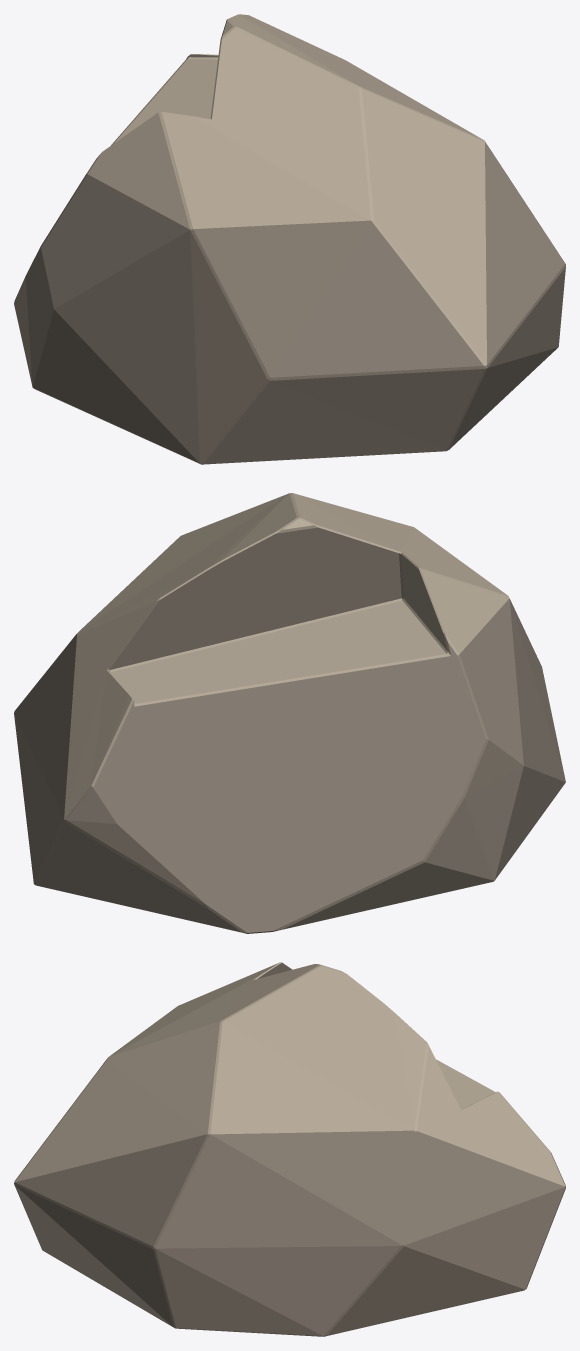
3 views of the same model, one above another, from view 1: azimuth 30°, elevation 25°; view 2: azimuth 150°, elevation 25°; view 3: azimuth 270°, elevation 25° (orthographic). The views are drawn at different scales.
Visible parts, largest first — view 1: rock; view 2: rock; view 3: rock.
Part boxes in pixels (x1,y1,x2,y2): rock: (14, 14, 565, 464); rock: (14, 493, 565, 933); rock: (14, 962, 565, 1336).
Bounding box in the file's own units: 1.3 × 0.85 × 1.6.
